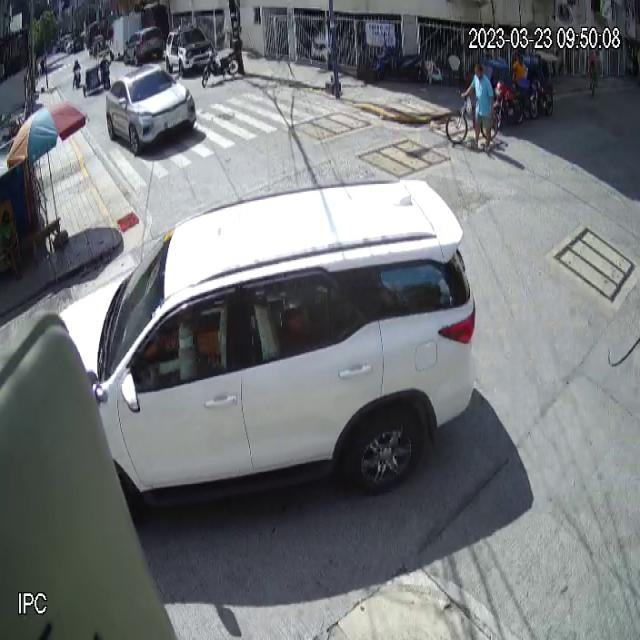Car: (56, 176, 478, 524), (105, 61, 198, 157)
